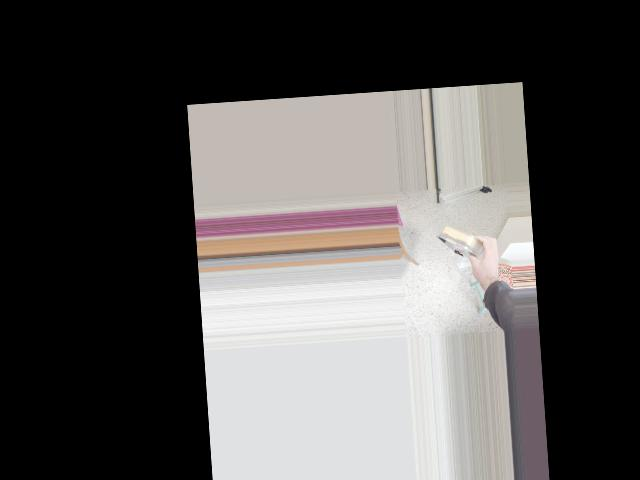cheese: (433, 212, 507, 273)
